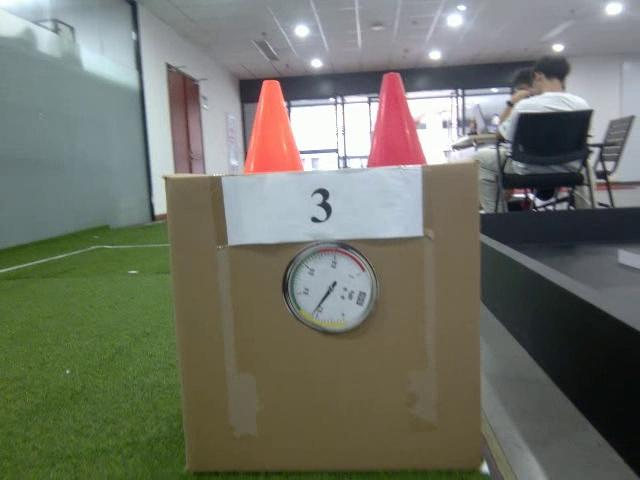3: (307, 185, 334, 224)
Dashboard: (281, 241, 379, 336)
orange_barrel: (242, 75, 306, 174)
red_barrel: (367, 68, 430, 170)
ssi: (355, 289, 367, 307)
